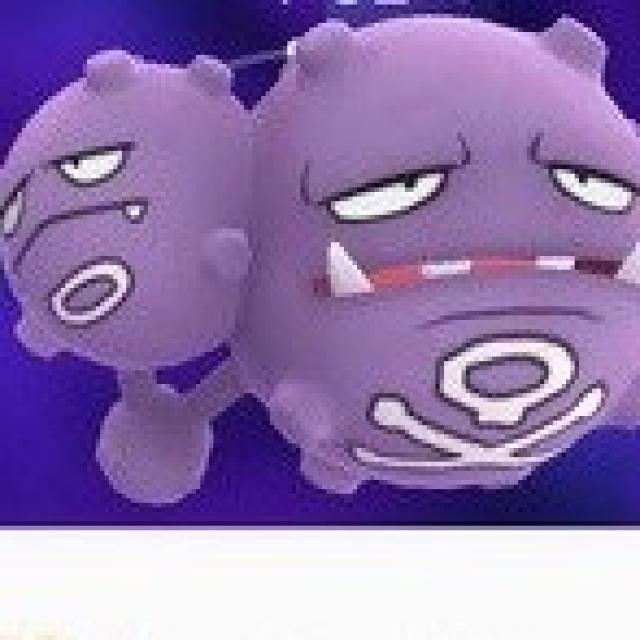Weezing: (0, 0, 640, 498)
